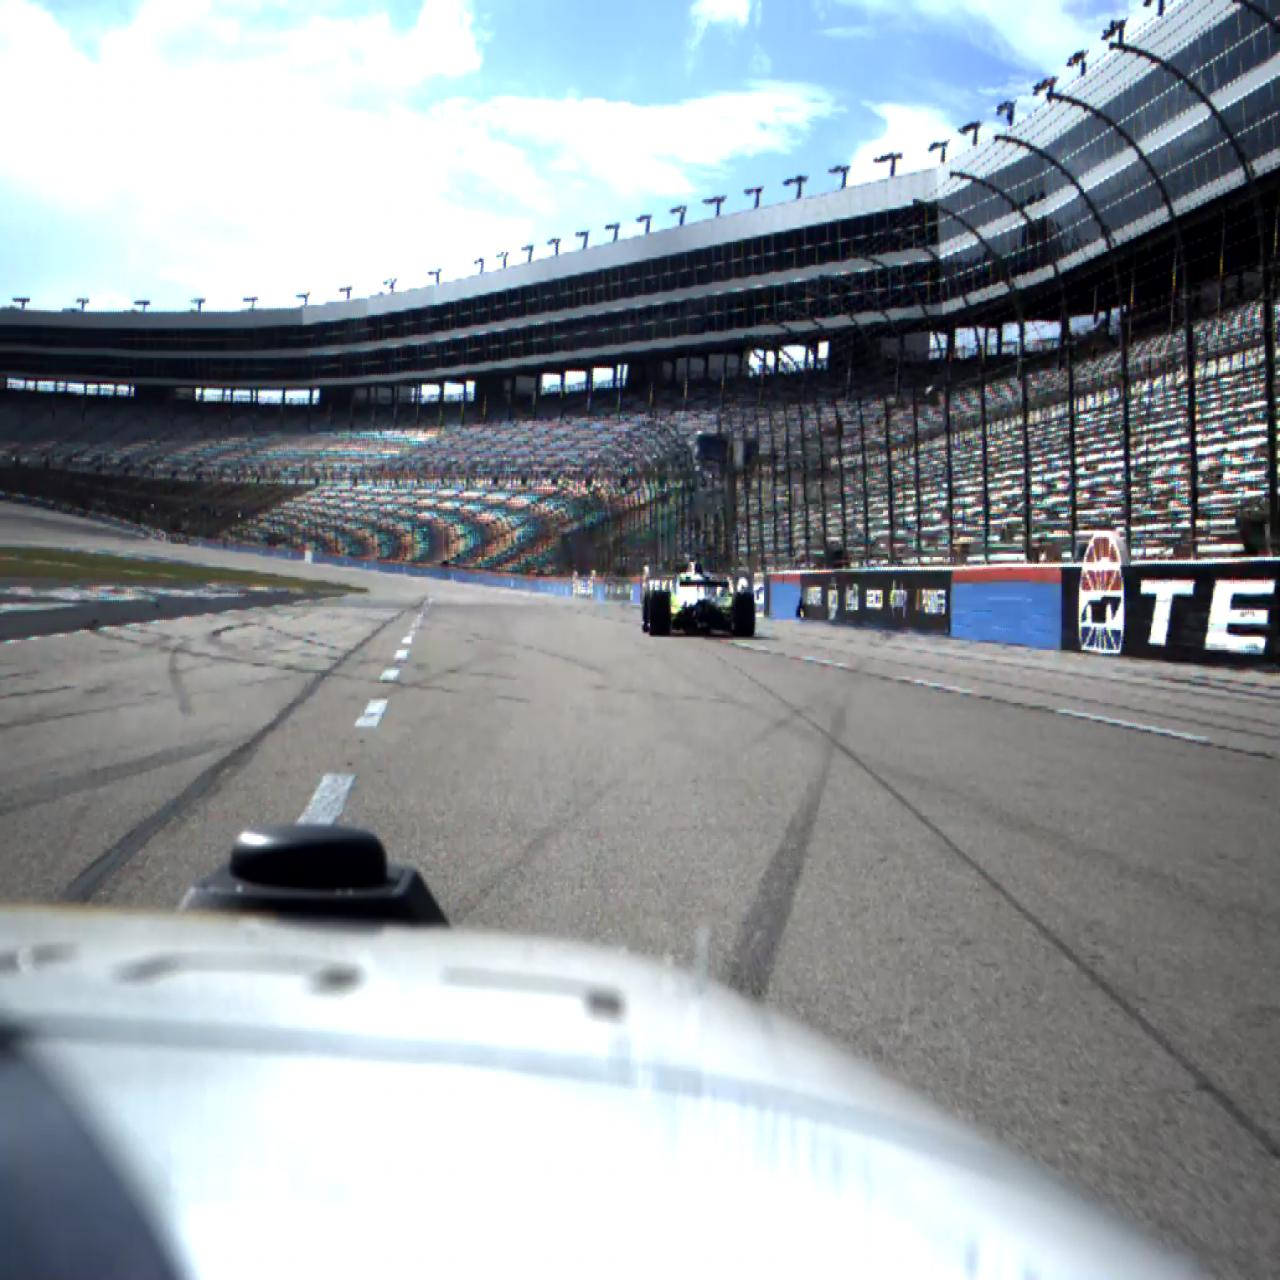AV: (642, 554, 755, 637)
Wheel: (733, 591, 755, 636), (650, 590, 670, 636), (643, 590, 655, 632)
